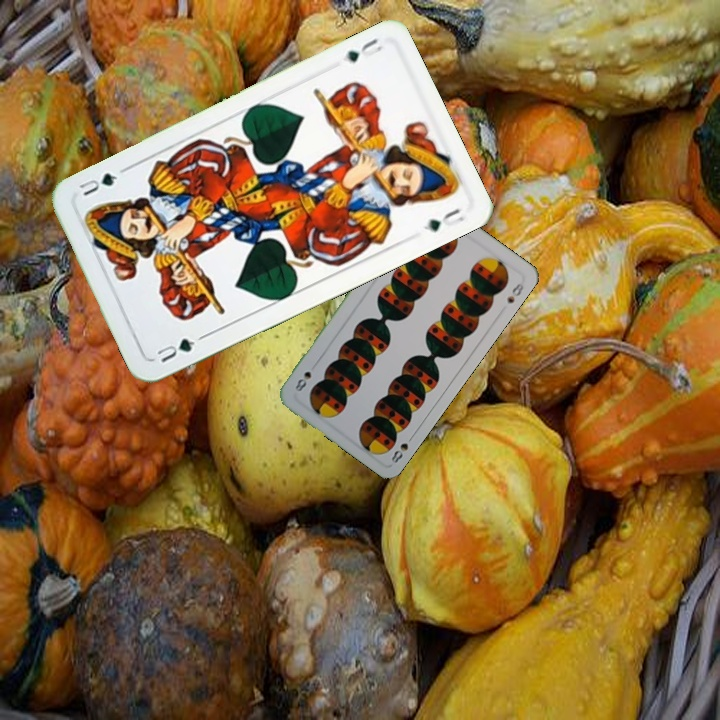GU: (152, 334, 198, 366), (338, 34, 385, 65)
S8: (387, 430, 417, 466)
